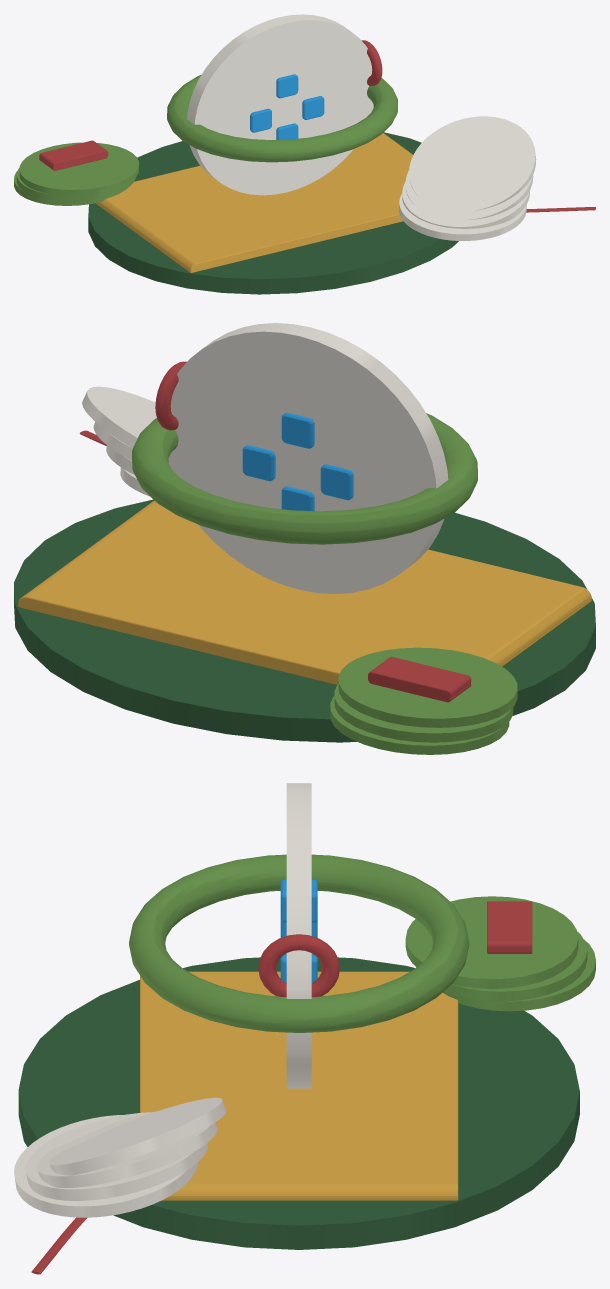
Rendered from 1186_唐图鉴_开元通宝.glb.
3 renders of one model, top to bottom at view 1: azimuth 30°, elevation 25°; view 2: azimuth 150°, elevation 25°; view 3: azimuth 270°, elevation 25°, orthographic. The views are drawn at different scales.
Parts seen in each view (by area): view 1: card_1186; view 2: card_1186; view 3: card_1186.
Boxes of the visible parts, left/top/right/bottom form: card_1186: left=14, top=14, right=595, bottom=294; card_1186: left=14, top=323, right=595, bottom=754; card_1186: left=14, top=783, right=595, bottom=1274.
Bounding box in the file's own units: 2.27 × 1 × 1.68.
